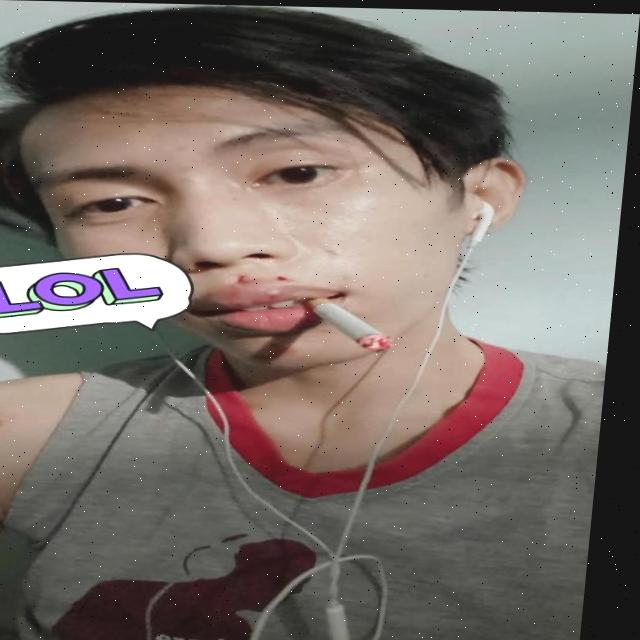cigarette: (308, 294, 402, 351)
